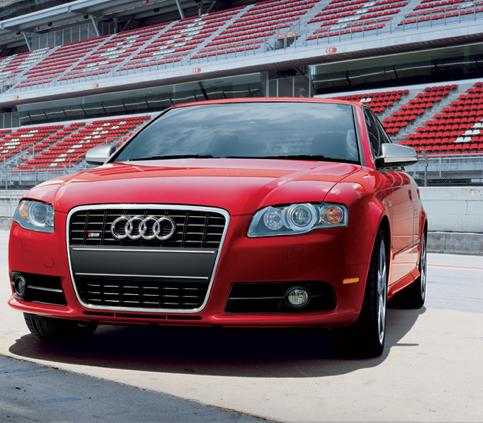Car: (1, 78, 452, 380)
